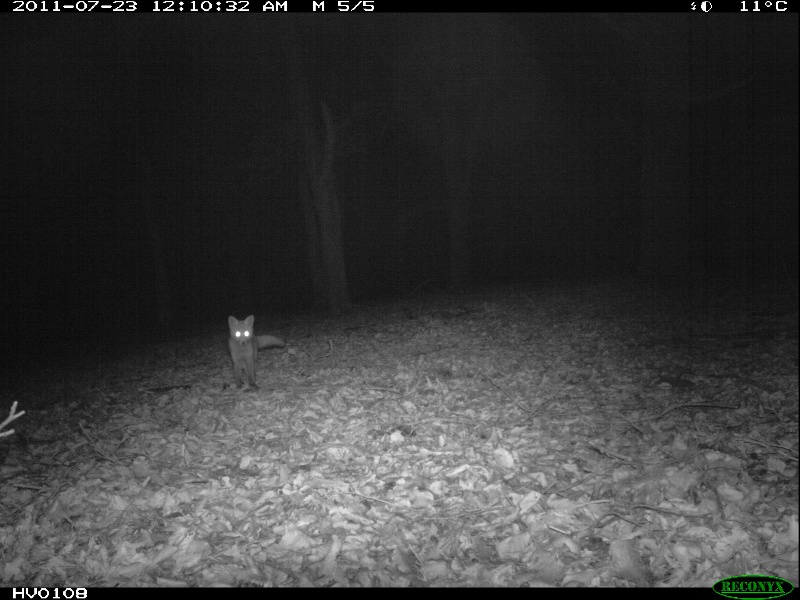fox: (223, 311, 290, 396)
